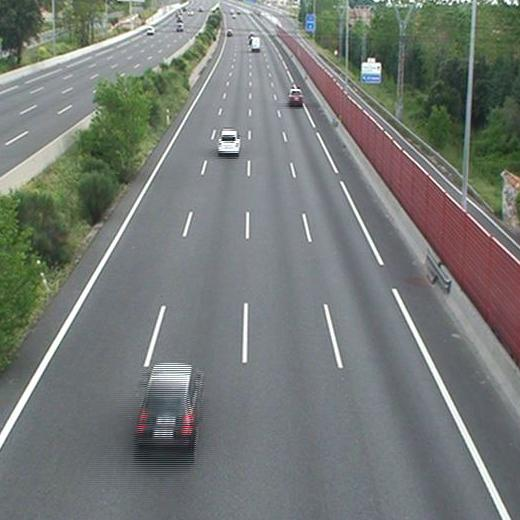car: (138, 363, 200, 440), (219, 130, 240, 153), (289, 90, 303, 104)
van: (250, 36, 261, 51)
